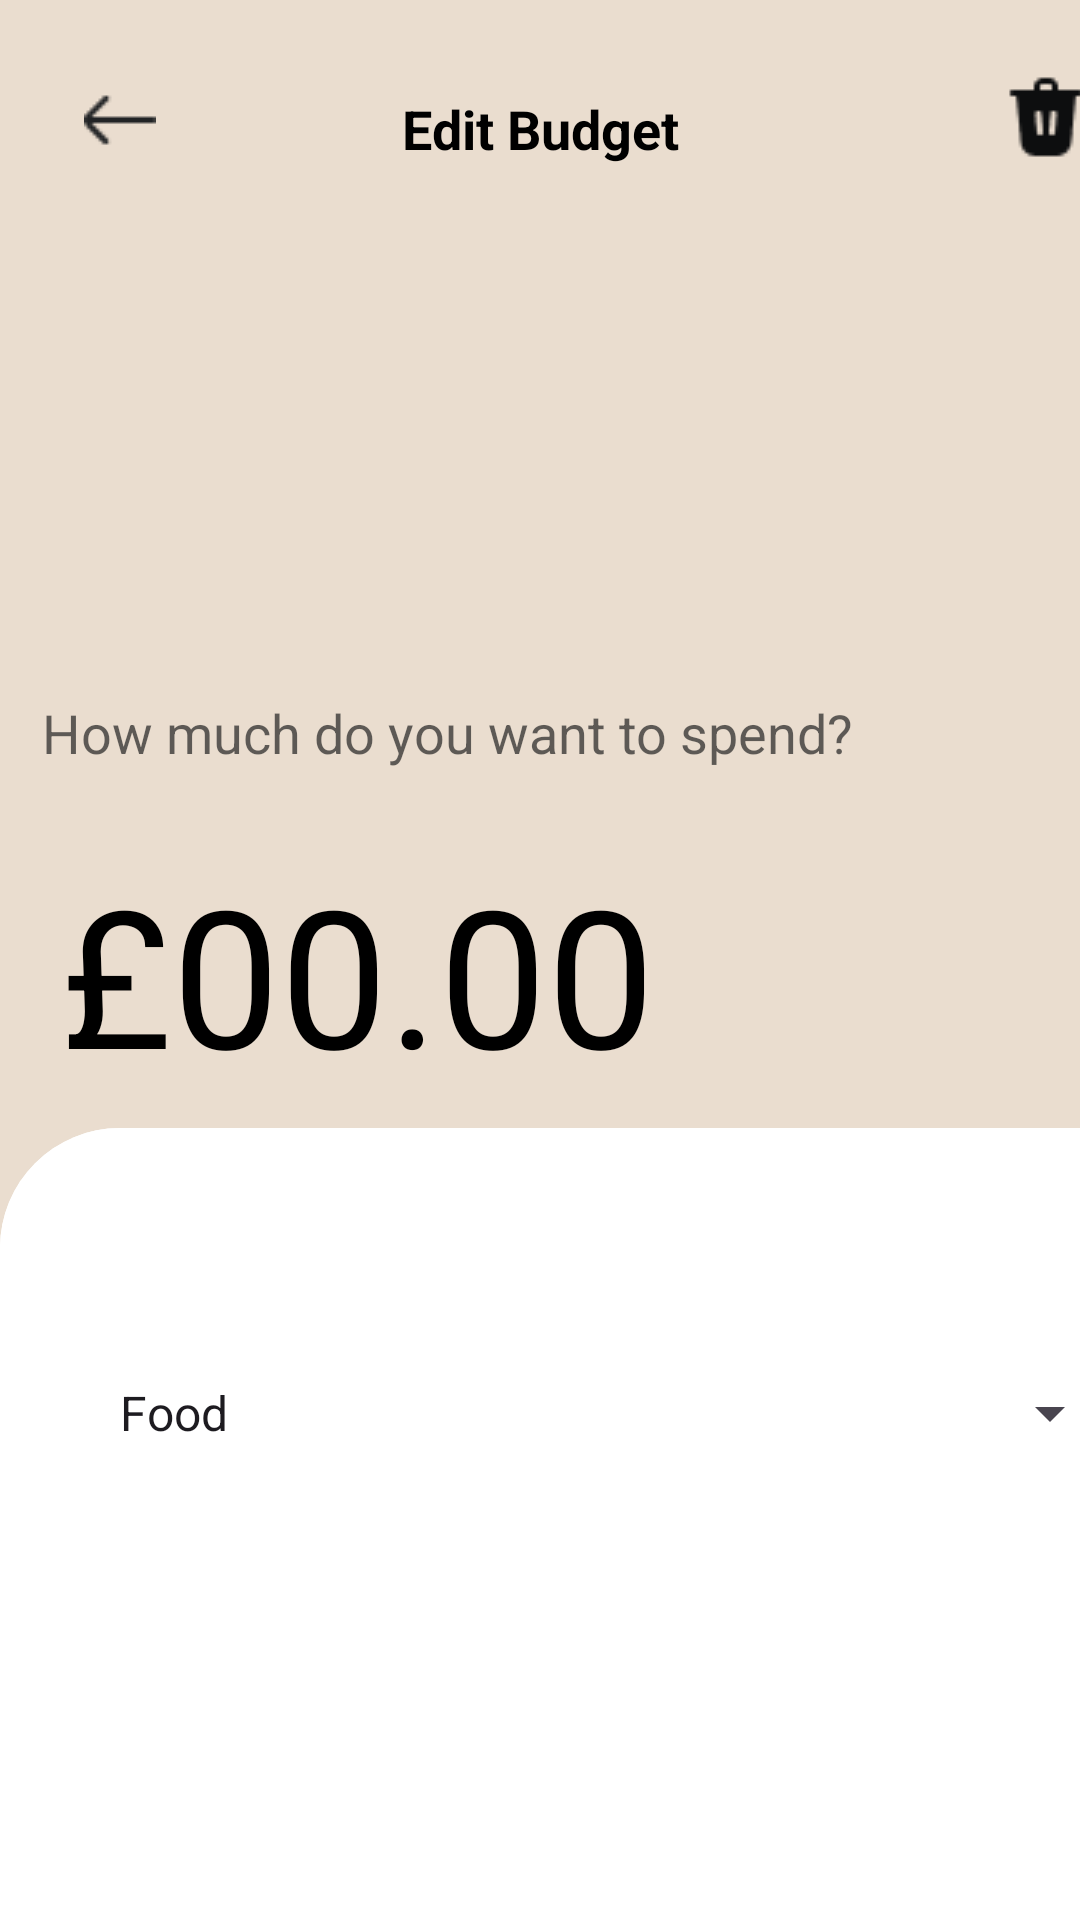

Icons on this 1080w x 1920h Android screen, each with the point to tap as point (x, y):
back arrow: point (120, 120)
